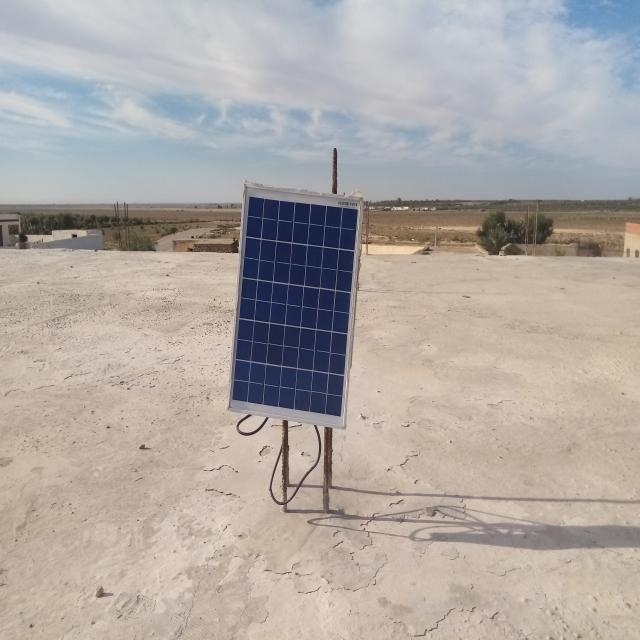no faulty: (227, 184, 361, 428)
